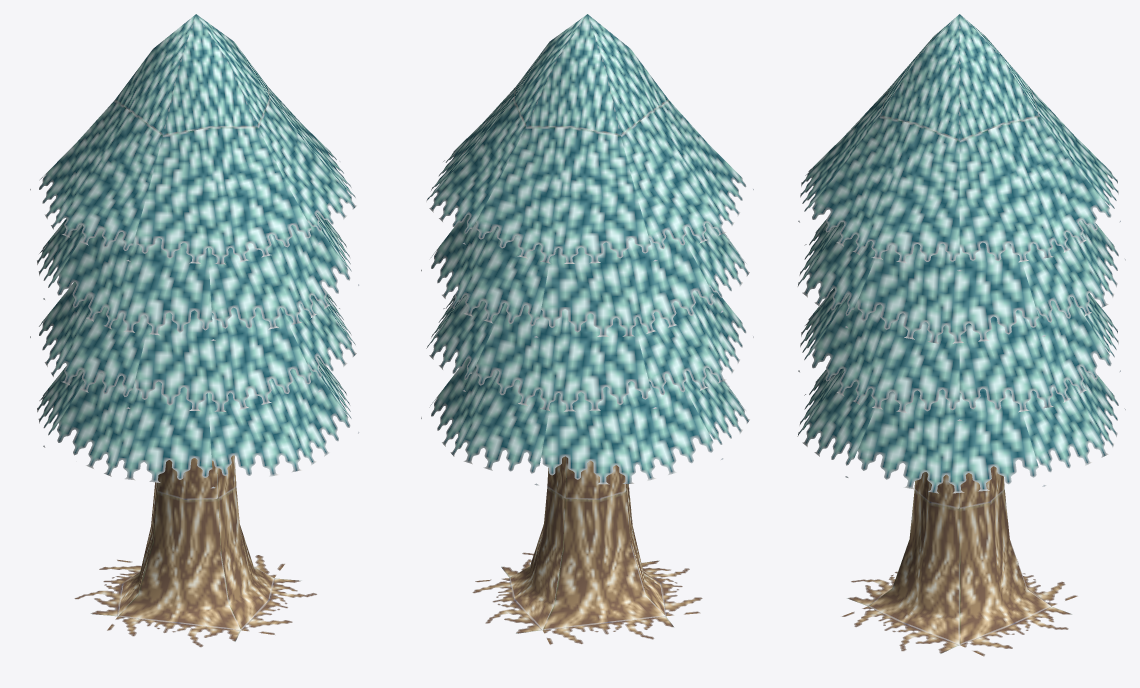
Rendered from pine_Tree_hiPoly.fbx.
3 renders of one model, left to right at view 1: azimuth 30°, elevation 25°; view 2: azimuth 150°, elevation 25°; view 3: azimuth 270°, elevation 25°, orthographic.
Parts seen in each view (by area): view 1: pine_Tree_hiPoly; view 2: pine_Tree_hiPoly; view 3: pine_Tree_hiPoly.
Boxes of the visible parts, x1,y1,x2,y2 form: pine_Tree_hiPoly: [30, 14, 359, 647]; pine_Tree_hiPoly: [421, 14, 753, 644]; pine_Tree_hiPoly: [797, 14, 1125, 656].
Bounding box in the file's own units: 2.87 × 5.54 × 2.78.
